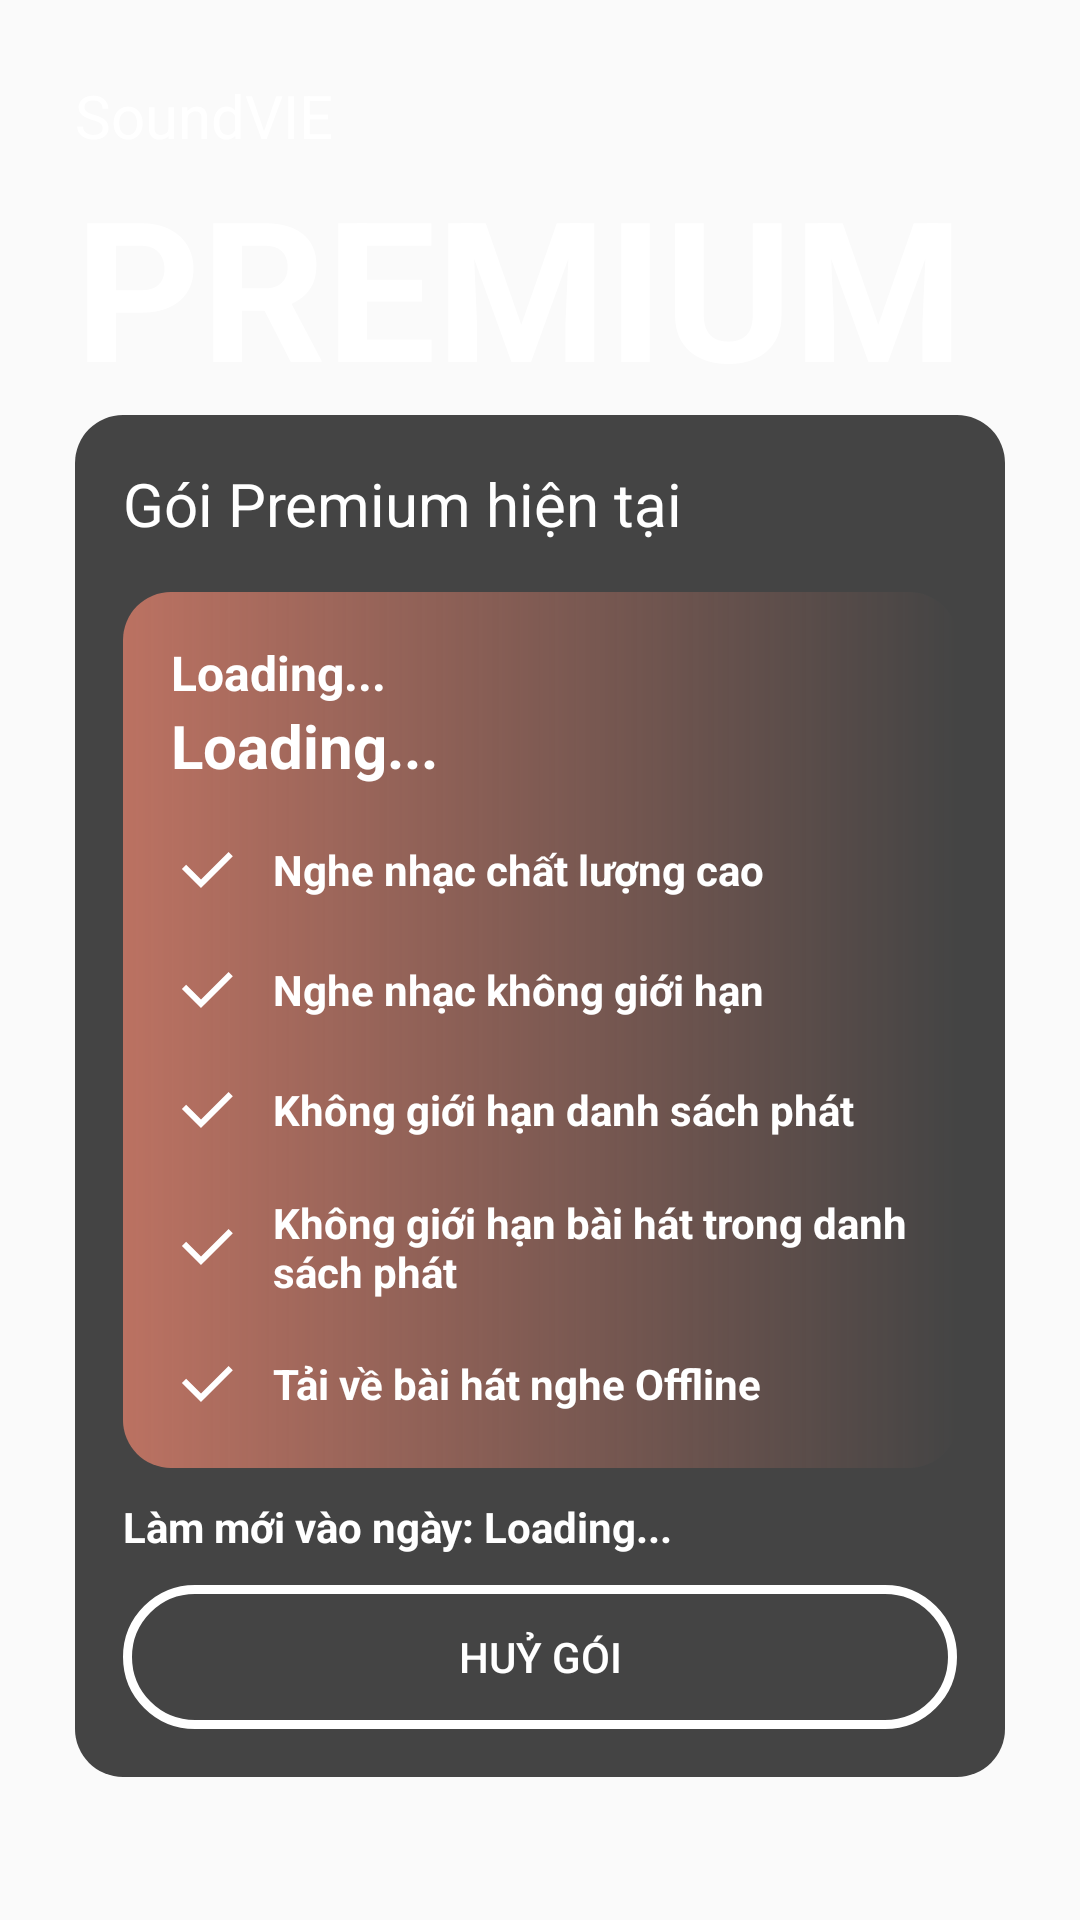

Locate icon controls on the screen. Image size 1080px×1920px, boxes as (x1, y1, x2, y2).
check line: (182, 852, 233, 888), (182, 972, 233, 1008), (182, 1092, 233, 1128), (182, 1229, 233, 1265), (182, 1366, 233, 1402)
